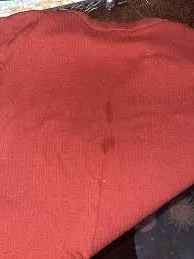oil: (96, 134, 122, 153), (106, 106, 119, 121)
